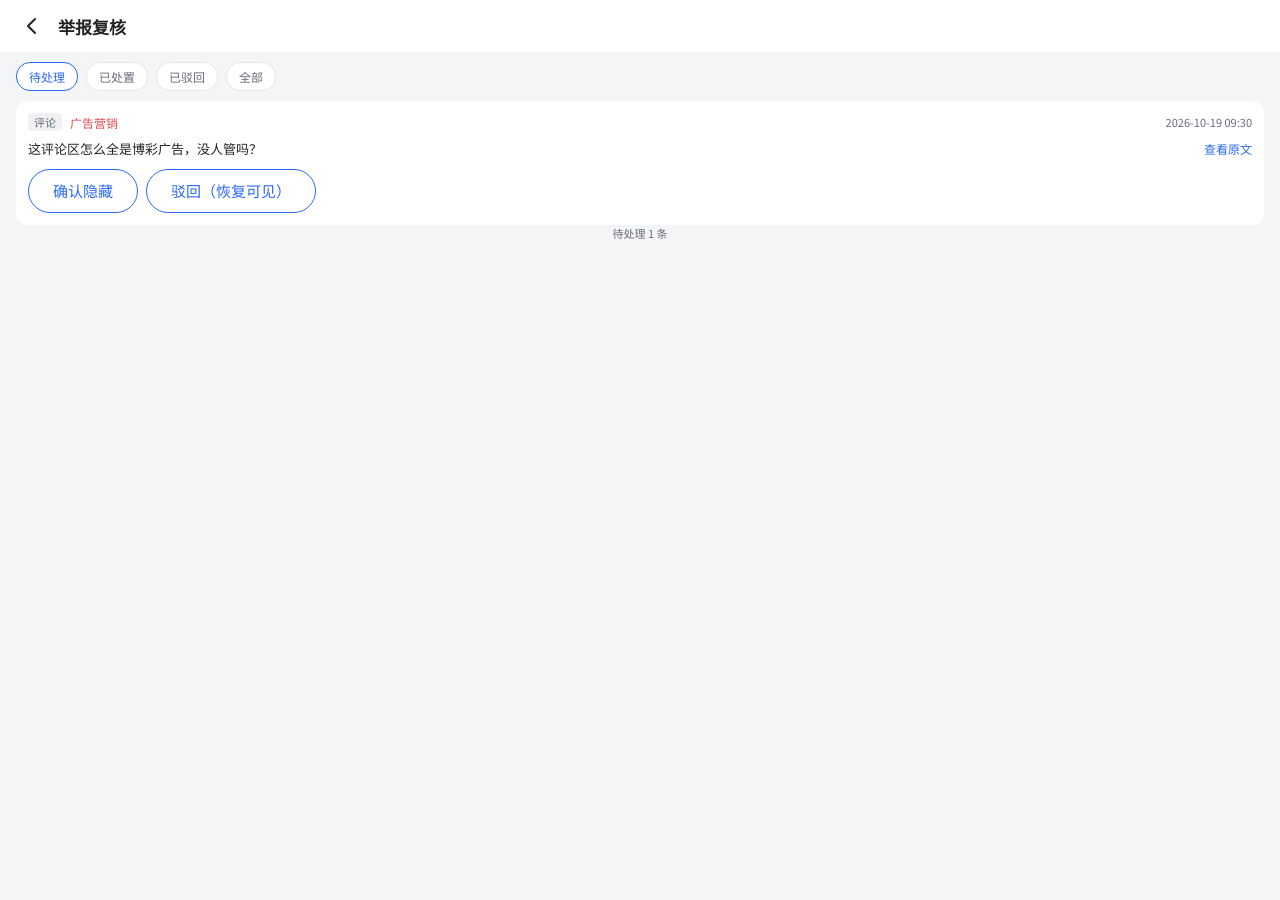
Test: AdminReports · 处置 › 处置失败给出提示，不静默吞掉
The image size is (1280, 900).
Click the button "驳回（恢复可见）": click(231, 190) [146,168,316,212]
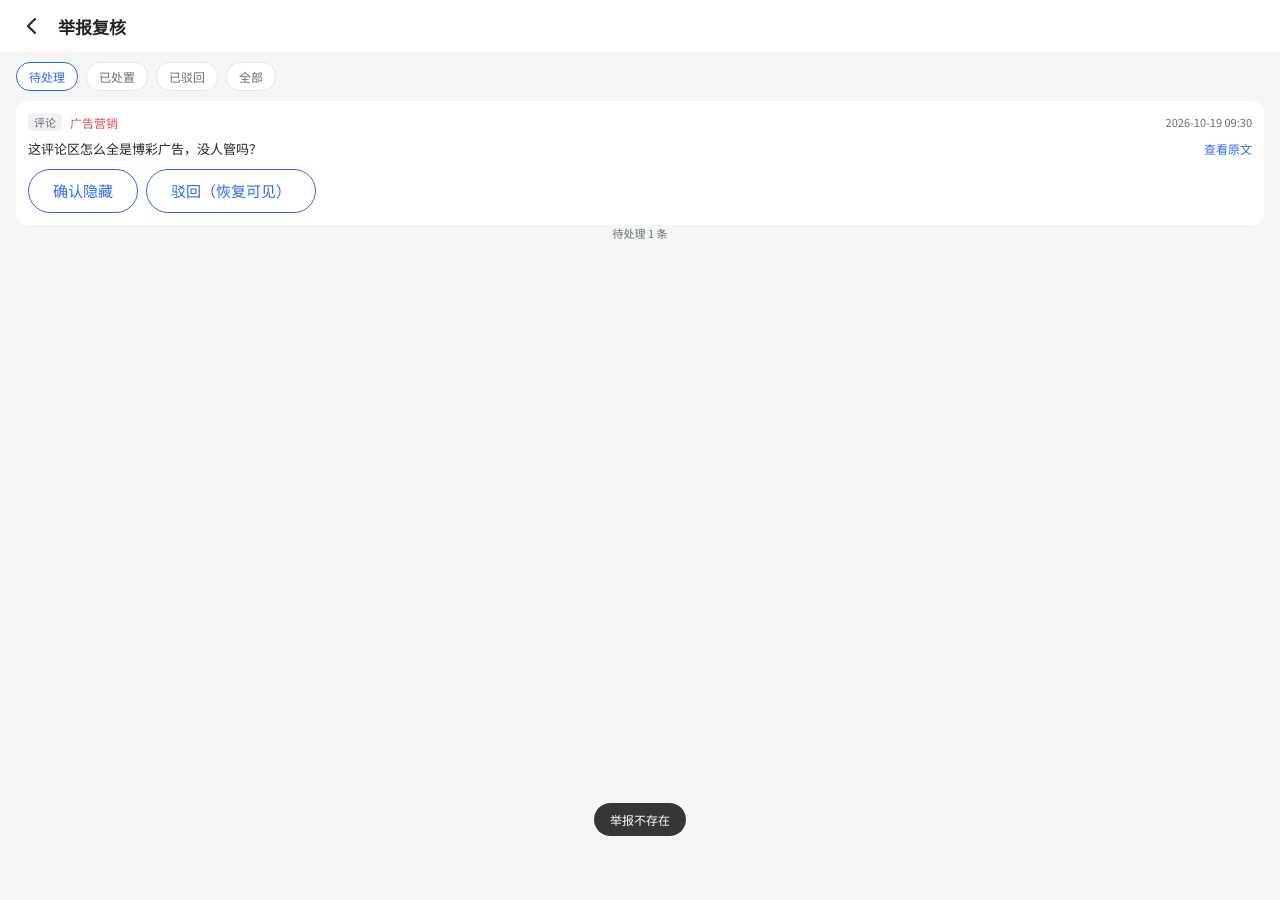
Expected: the text "举报不存在" is shown, [594,803,686,836]
